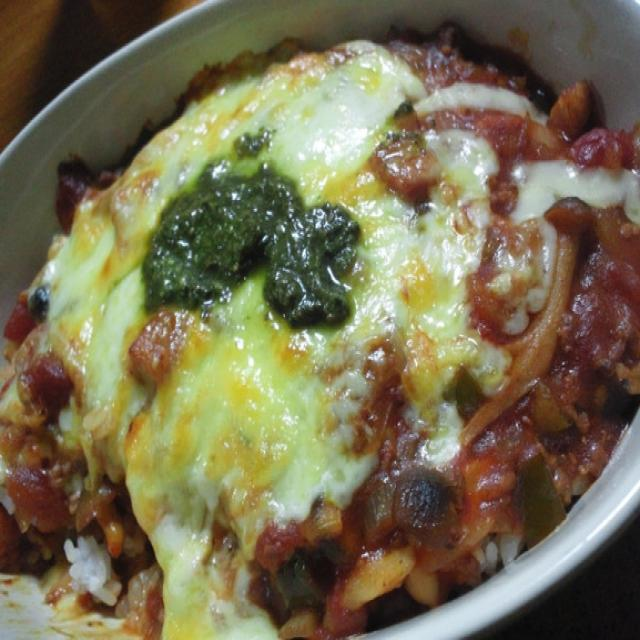米饭主食: (30, 40, 621, 610)
